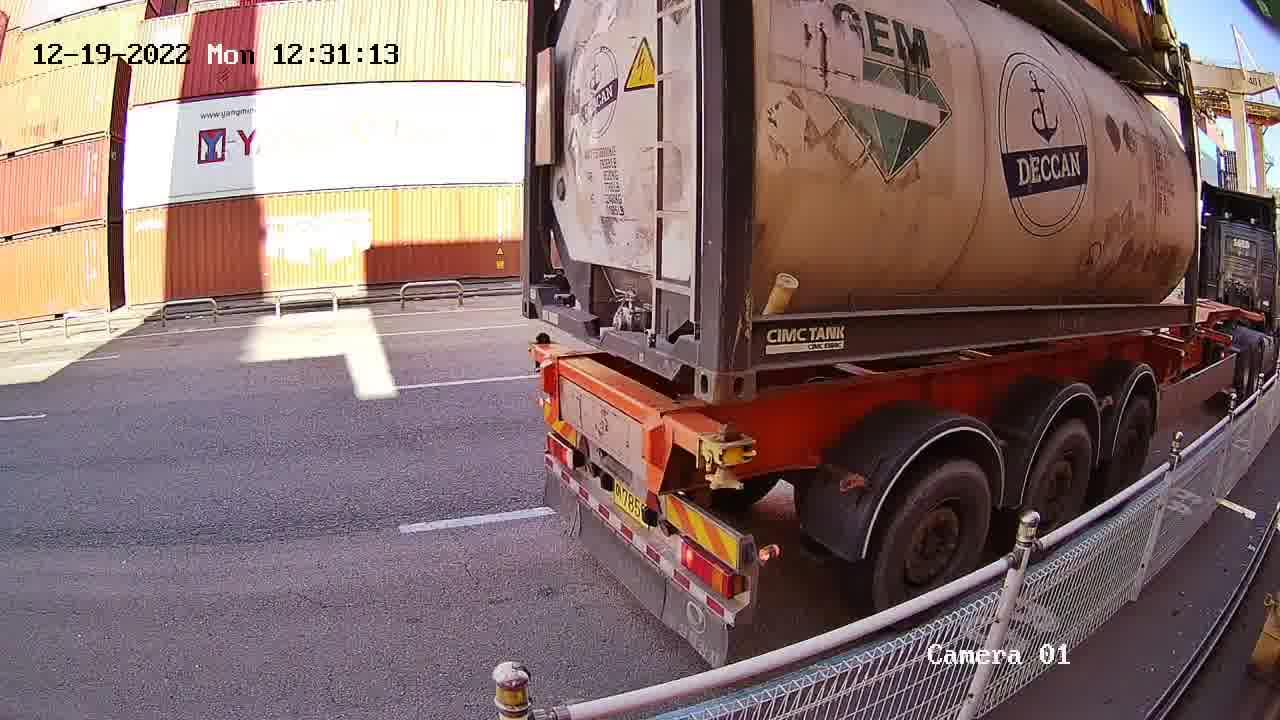Chassis: (528, 343, 746, 493)
Cone: (703, 421, 760, 491), (531, 331, 553, 349)
Hole_L: (718, 334, 782, 402), (521, 281, 552, 325)
Hole_R: (670, 327, 718, 403)
Tire: (877, 463, 992, 607), (1030, 428, 1092, 536), (1114, 400, 1153, 489)
